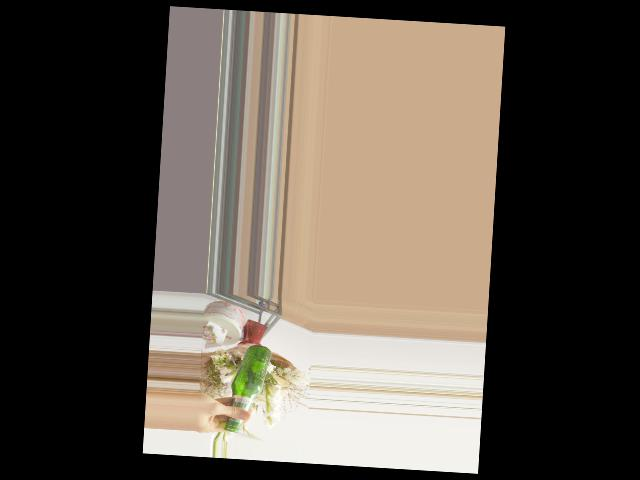beer: (228, 343, 271, 434)
